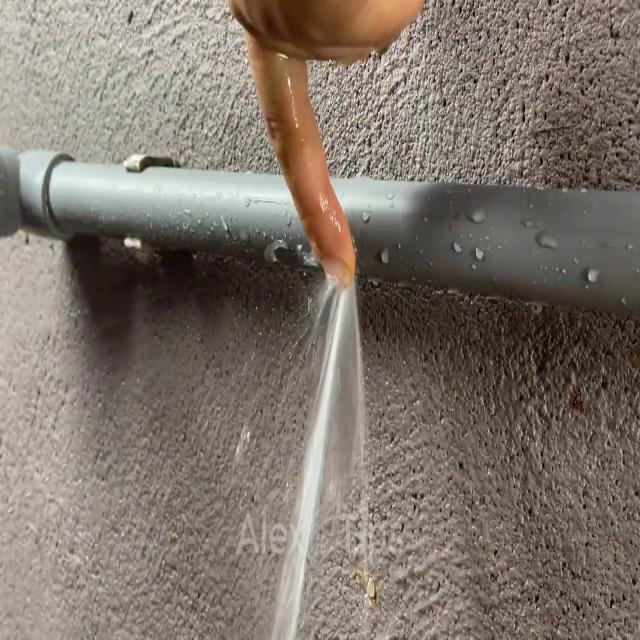leak: (272, 276, 356, 640)
